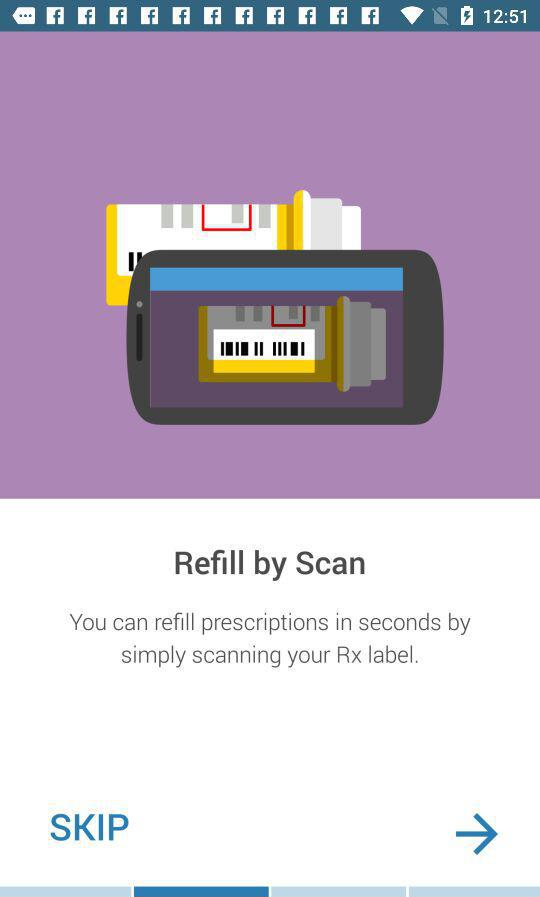Icon: (455, 812, 499, 856)
Image: (105, 189, 445, 427)
Text: (68, 611, 472, 671), (174, 548, 367, 584), (51, 812, 131, 842)
UpperTaskBar: (1, 1, 540, 33)
